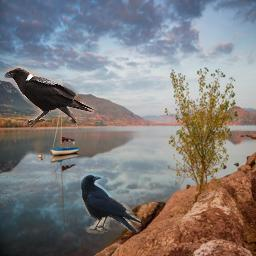Crow: (3, 66, 94, 130), (80, 172, 141, 234)
